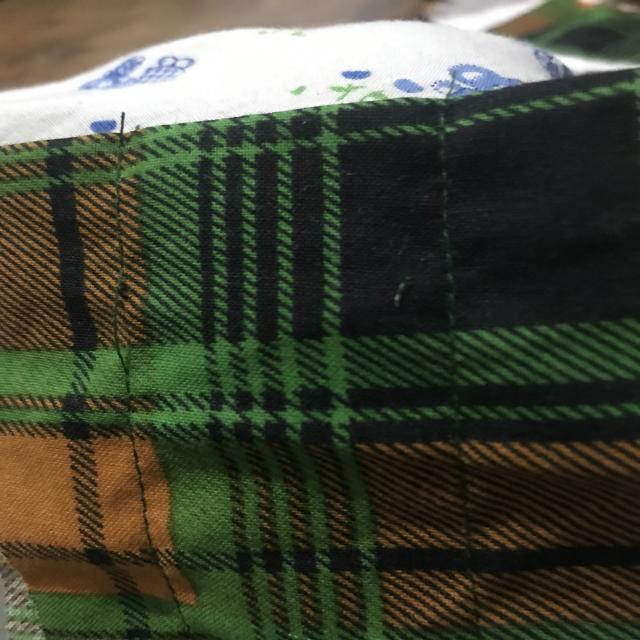good: (118, 442, 162, 532)
skip: (98, 257, 142, 378)
